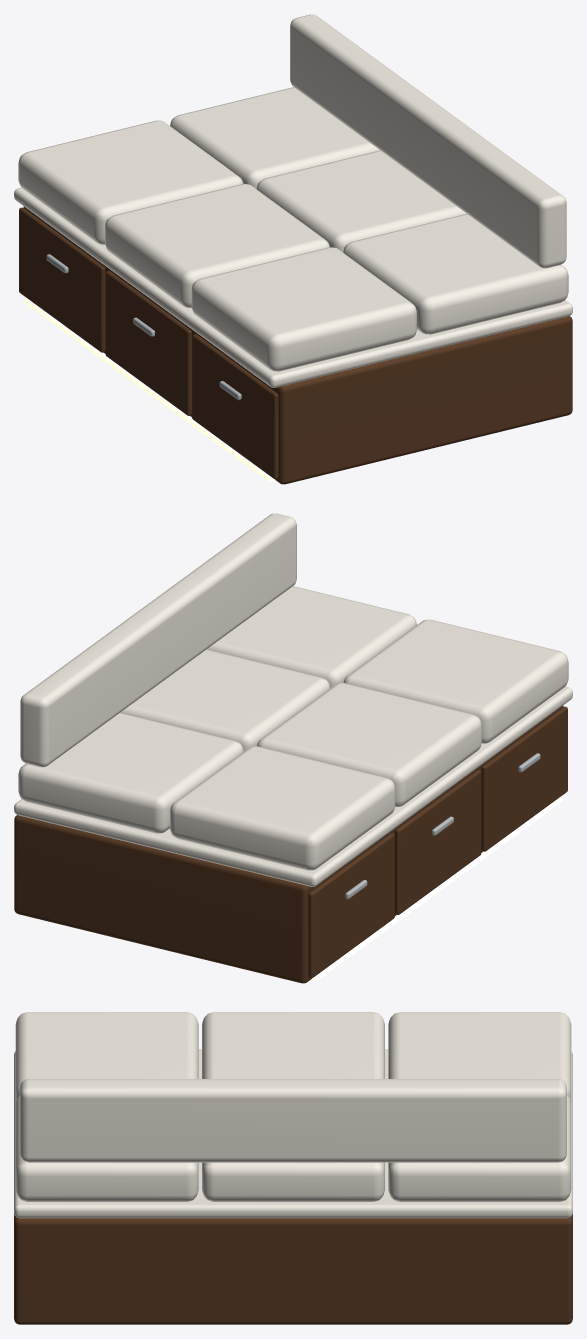
The model's file is sofa_slideout.glb.
3 views of the same model, one above another, from view 1: azimuth 30°, elevation 25°; view 2: azimuth 150°, elevation 25°; view 3: azimuth 270°, elevation 25° (orthographic). The views are drawn at different scales.
Parts seen in each view (by area): view 1: slideout_bed, slideout_base, sofa_slideout_details; view 2: slideout_bed, slideout_base, sofa_slideout_details; view 3: slideout_bed, slideout_base, sofa_slideout_details.
Part boxes in pixels (x1=…): slideout_bed: x1=14, y1=87, x2=572, y2=387; slideout_base: x1=19, y1=206, x2=572, y2=484; sofa_slideout_details: x1=23, y1=14, x2=566, y2=481; slideout_bed: x1=14, y1=586, x2=572, y2=886; slideout_base: x1=14, y1=705, x2=567, y2=983; sofa_slideout_details: x1=20, y1=513, x2=563, y2=980; slideout_bed: x1=14, y1=1012, x2=572, y2=1218; slideout_base: x1=14, y1=1214, x2=572, y2=1324; sofa_slideout_details: x1=20, y1=1079, x2=566, y2=1162.
Size of the model in its own units: 1.28 by 0.88 by 1.9.
